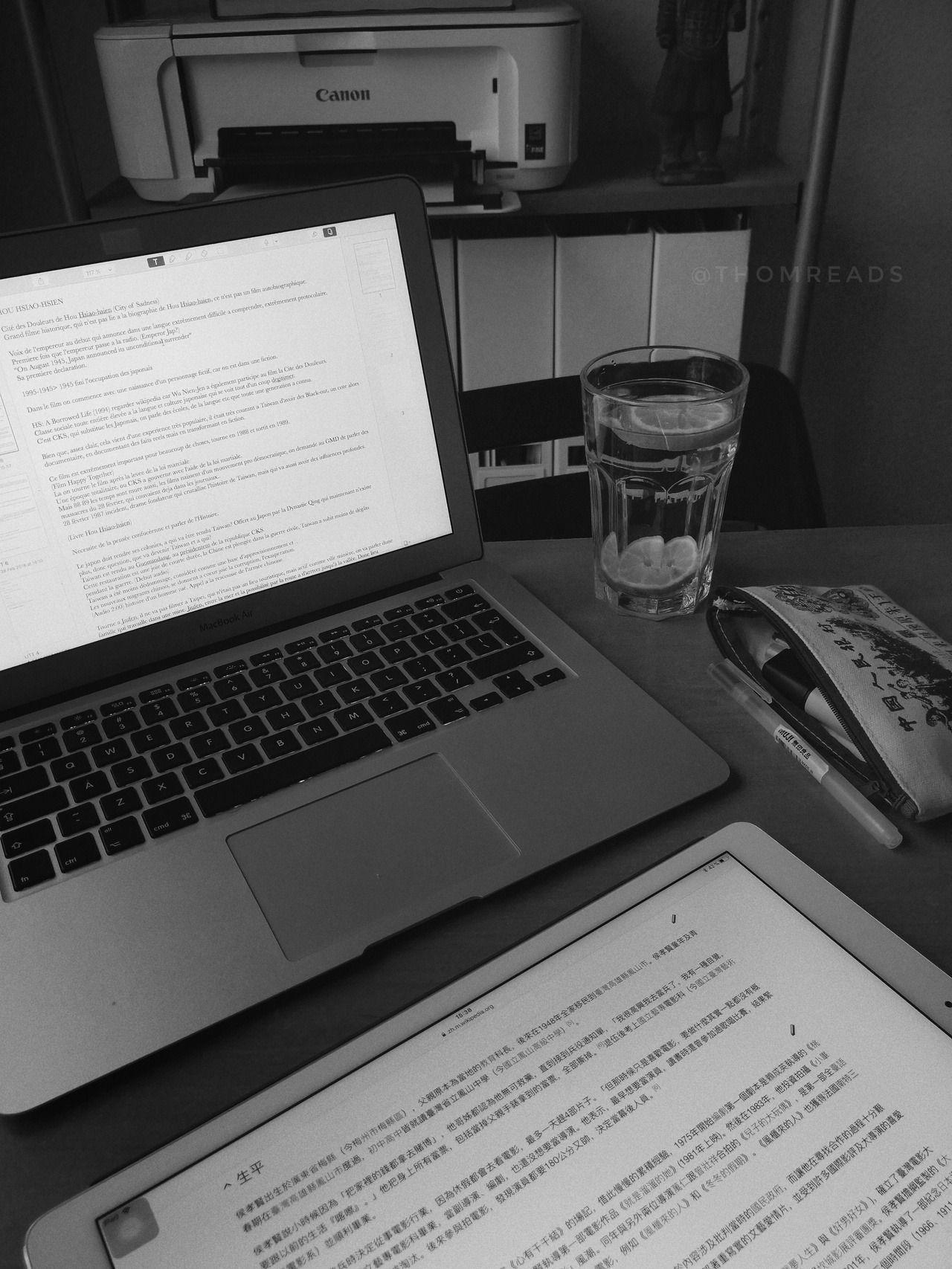glass-normal: (579, 343, 751, 619)
